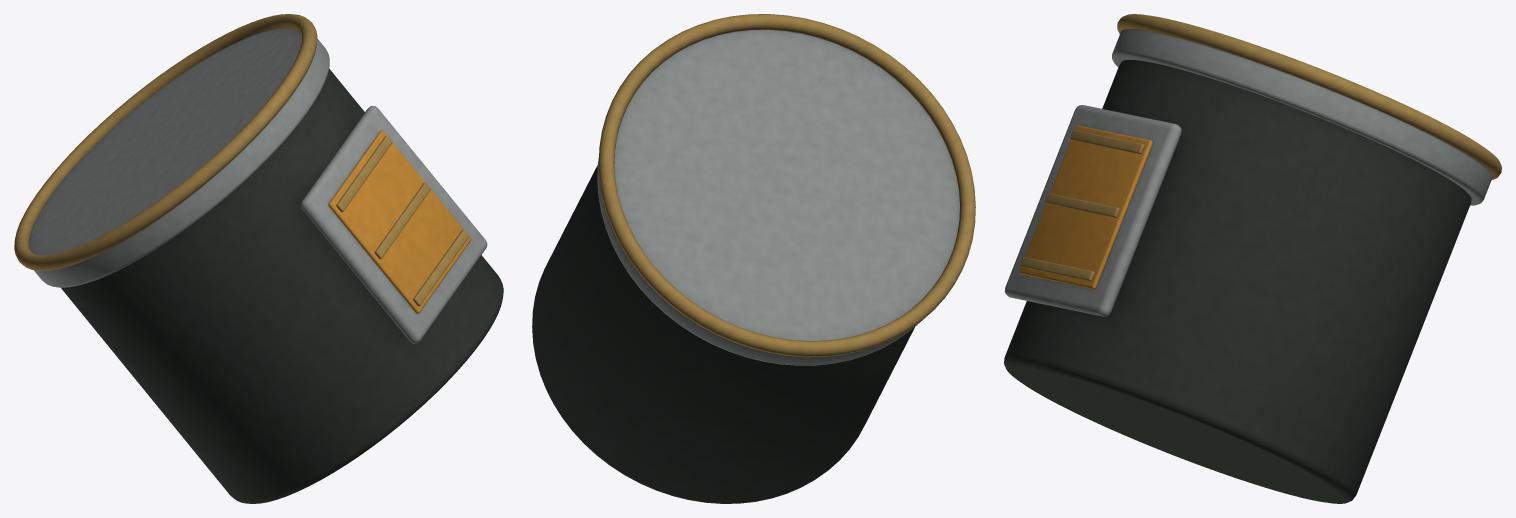
3 views of the same model, side by side, from view 1: azimuth 30°, elevation 25°; view 2: azimuth 150°, elevation 25°; view 3: azimuth 270°, elevation 25° (orthographic). The views are drawn at different scales.
Parts seen in each view (by area): view 1: Closed sample vessel; view 2: Closed sample vessel; view 3: Closed sample vessel.
Boxes of the visible parts, bbox=[...] form: Closed sample vessel: bbox=[14, 14, 503, 503]; Closed sample vessel: bbox=[532, 14, 975, 503]; Closed sample vessel: bbox=[1004, 14, 1501, 503].
Bounding box in the file's own units: 1.21 × 1.23 × 1.16.
1 material, 1 textured.
